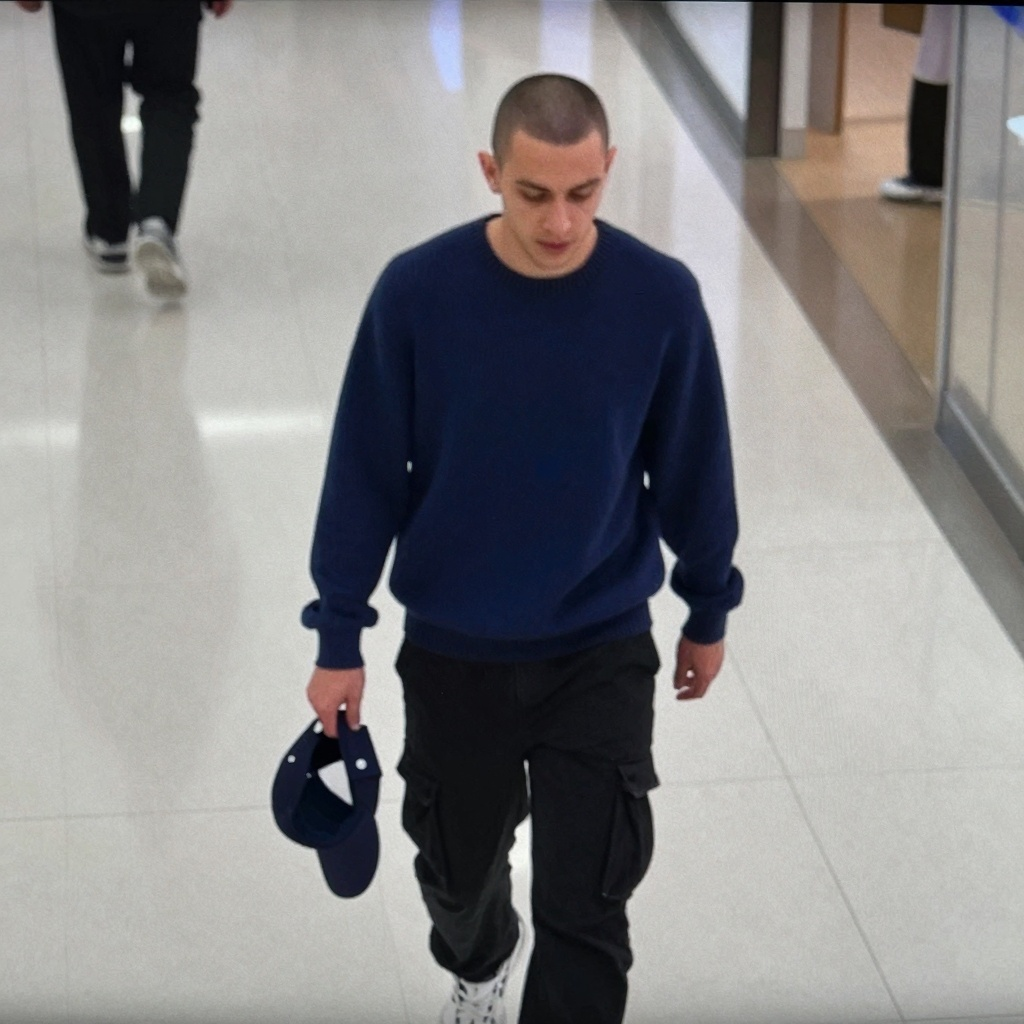Normal activity: (300, 68, 744, 1024), (14, 0, 234, 300)
